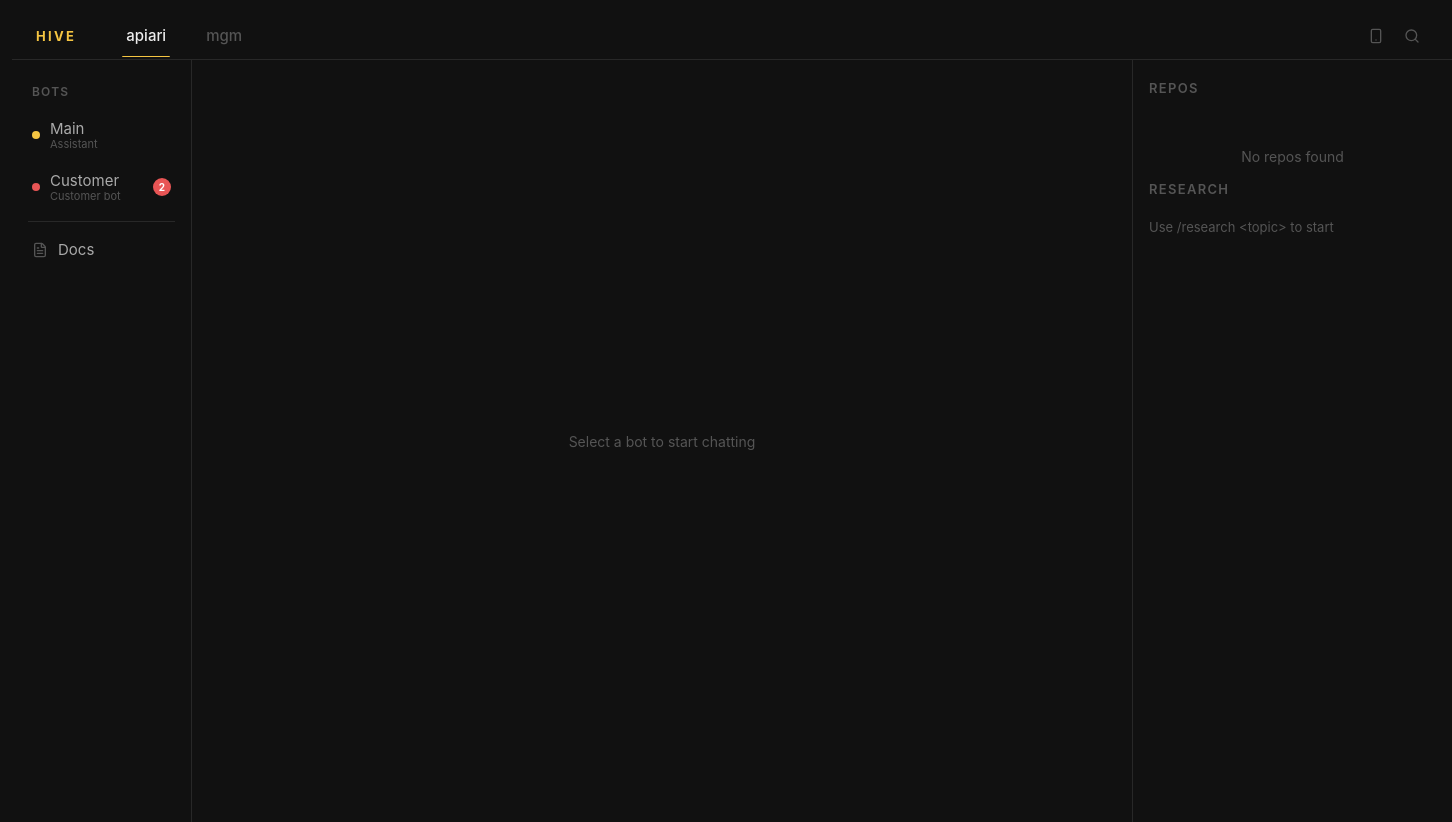
Test case: Polling cancellation on bot switch › does not apply stale poll responses after switching bots
Note: Select Main bot — triggers initial load, getBotStatus gets stalePromise
Click the text "Main": [67, 128] box [50,119,84,138]
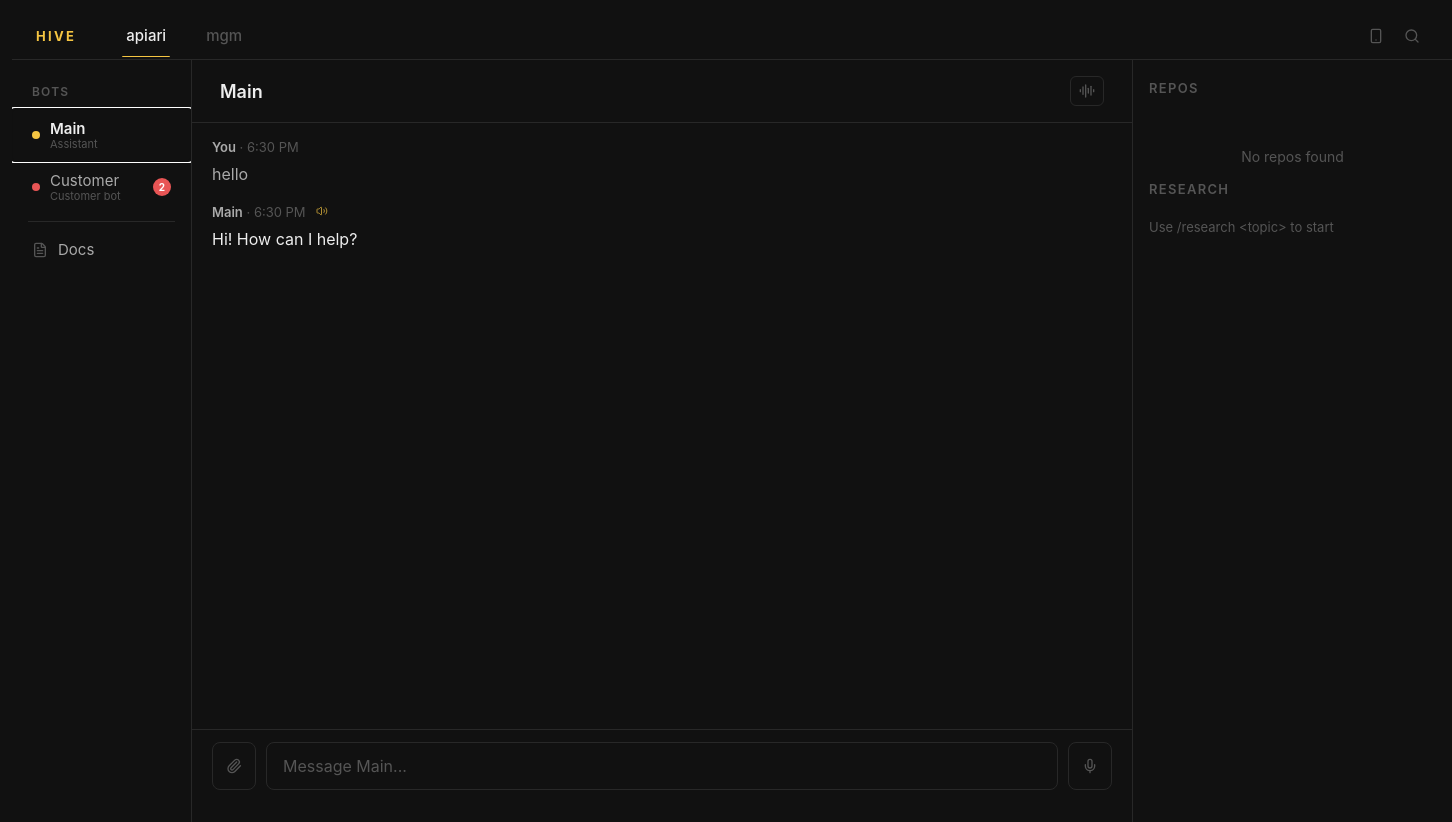
expect the text box with placeholder "Message Main..." is shown: met, box [266,742,1058,790]
Click the text "Customer": [84, 181] box [50,171,119,190]
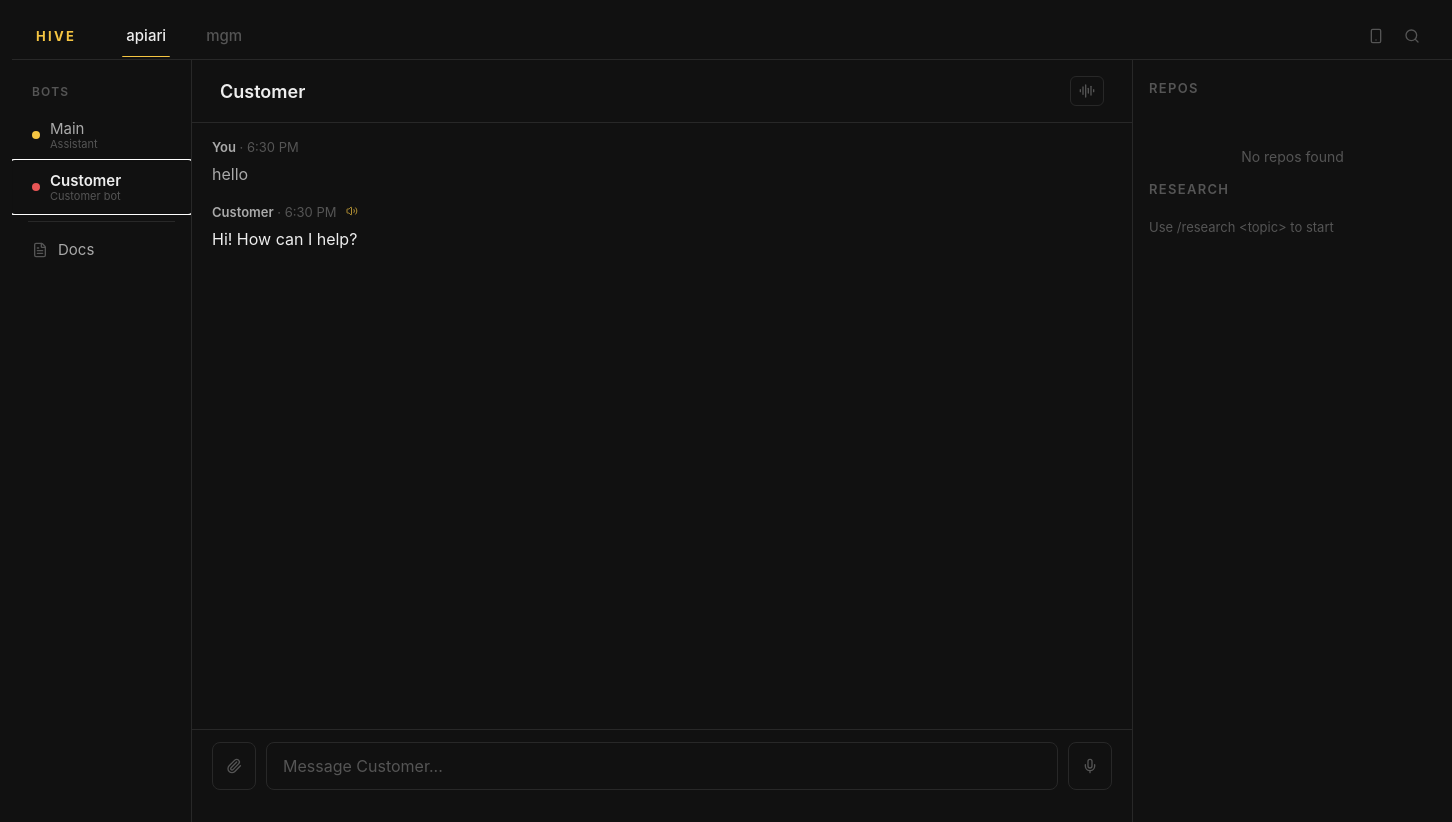
expect the text box with placeholder "Message Customer..." is shown: met, box [266,742,1058,790]
